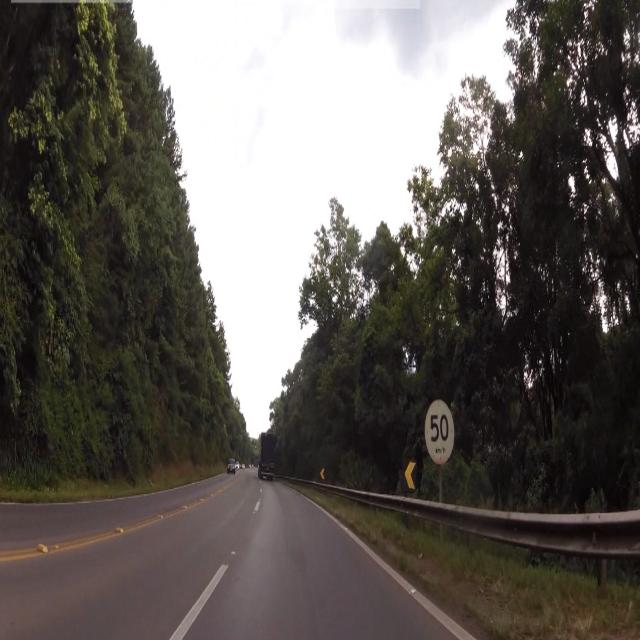Del: (401, 456, 422, 494)
R-19: (424, 385, 459, 469)
